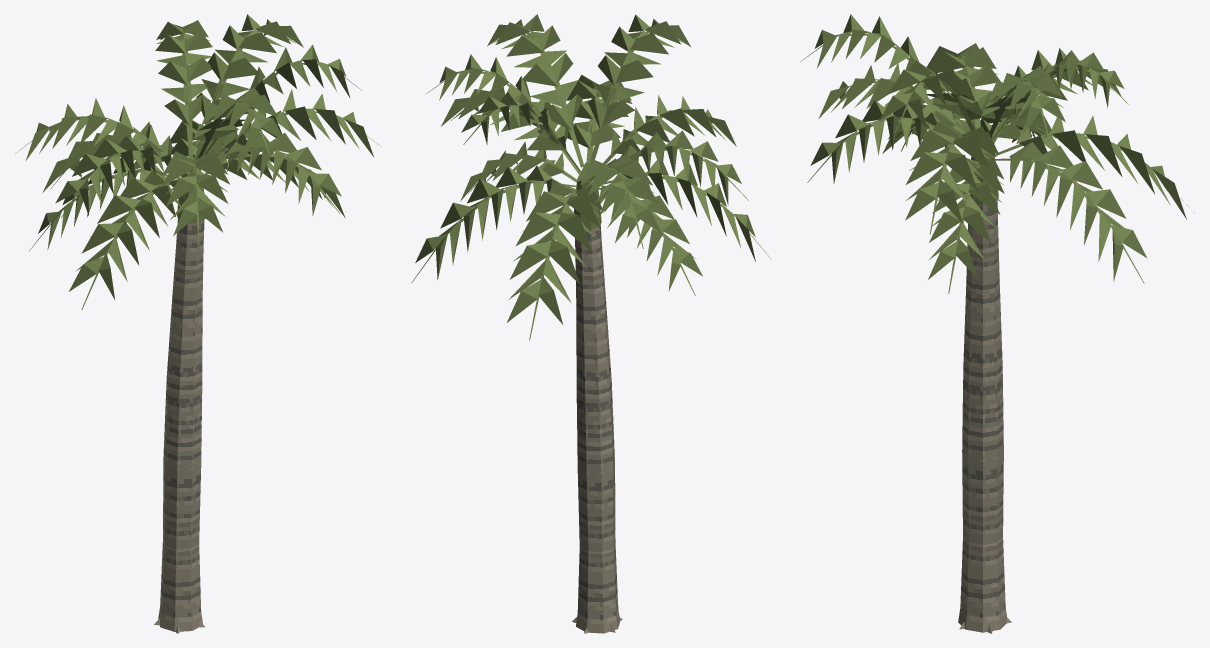
The model's file is foxtail.glb.
3 renders of one model, left to right at view 1: azimuth 30°, elevation 25°; view 2: azimuth 150°, elevation 25°; view 3: azimuth 270°, elevation 25°, orthographic. The views are drawn at different scales.
Parts seen in each view (by area): view 1: crown_foxtail, trunk_foxtail; view 2: crown_foxtail, trunk_foxtail; view 3: crown_foxtail, trunk_foxtail.
Part boxes in pixels (bbox=[...]): crown_foxtail: bbox=[15, 14, 379, 309]; trunk_foxtail: bbox=[154, 168, 205, 633]; crown_foxtail: bbox=[411, 14, 771, 340]; trunk_foxtail: bbox=[572, 175, 622, 633]; crown_foxtail: bbox=[800, 14, 1194, 293]; trunk_foxtail: bbox=[958, 148, 1011, 633].
Size of the model in its own units: 5.89 by 10.14 by 6.01.
Materials: 2 (2 with a texture image).
